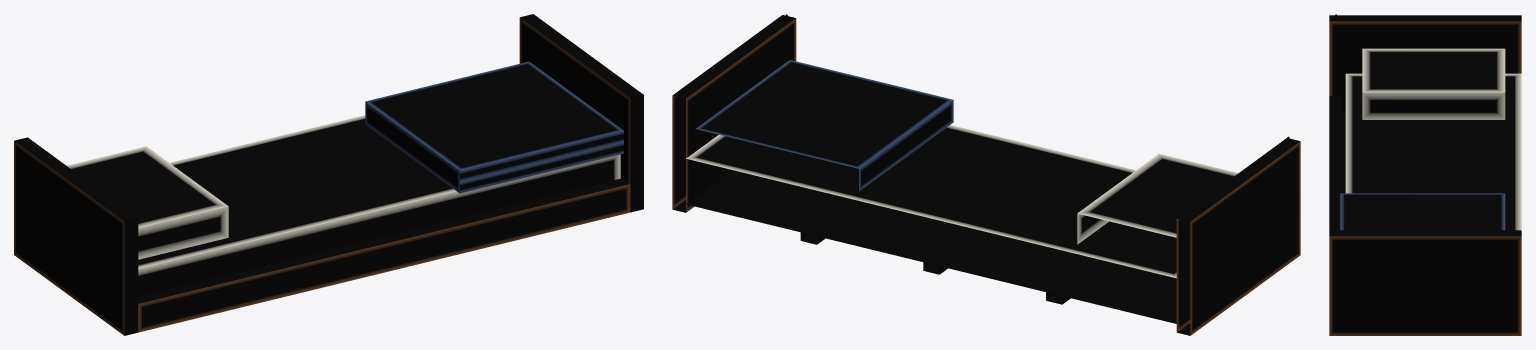
Rendered from berth.glb.
The picture shows the model from 3 angles, left to right: view 1: azimuth 30°, elevation 25°; view 2: azimuth 150°, elevation 25°; view 3: azimuth 270°, elevation 25°; orthographic projection. The views are drawn at different scales.
Parts seen in each view (by area): view 1: linen, frame, blanket; view 2: frame, linen, blanket; view 3: frame, linen, blanket.
Boxes of the visible parts, box(x1,y1,x2,y2) form: linen: box(67, 115, 620, 296); frame: box(14, 14, 643, 335); blanket: box(365, 61, 623, 193); frame: box(672, 15, 1300, 335); linen: box(686, 125, 1238, 278); blanket: box(696, 60, 953, 191); frame: box(1329, 15, 1521, 335); linen: box(1345, 48, 1521, 230); blanket: box(1340, 193, 1505, 230).
Size of the model in its own units: 1.9 by 0.42 by 0.7.
